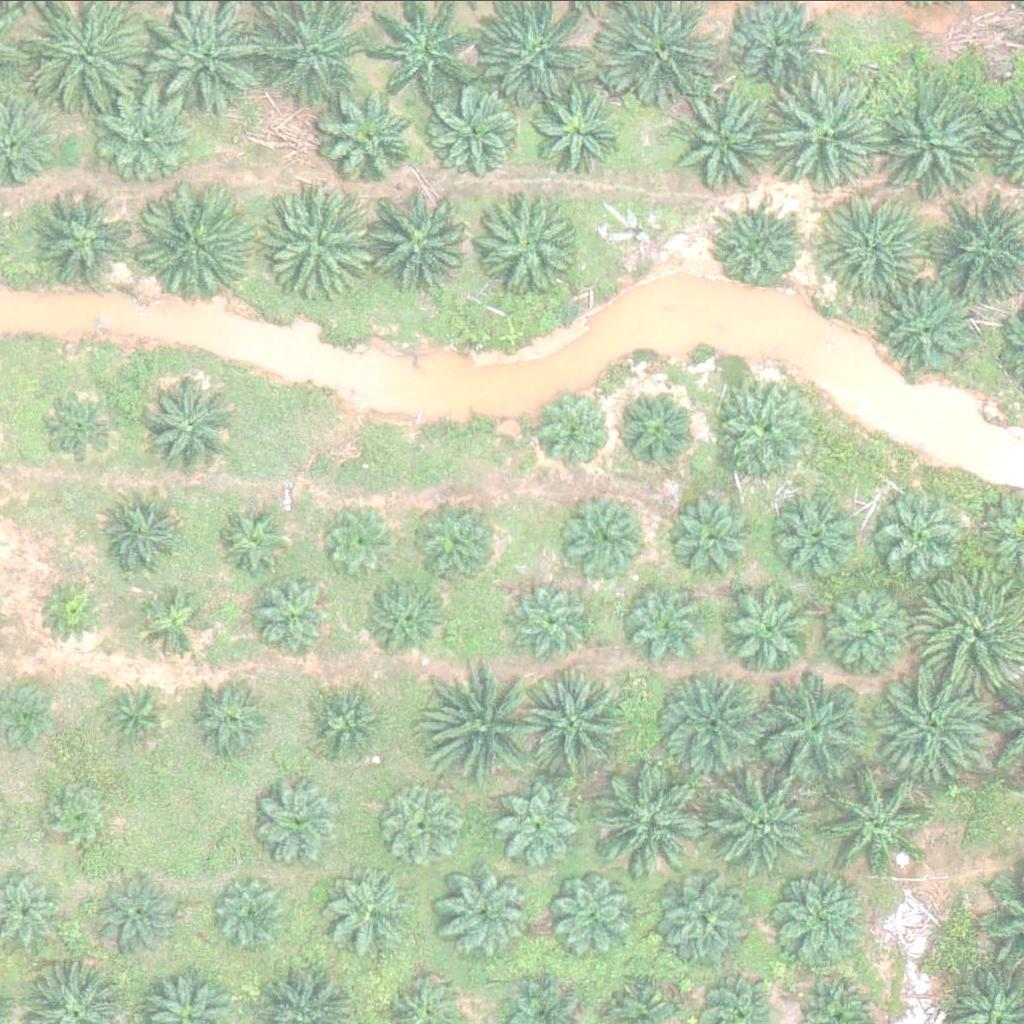Kelapa_Sawit: (881, 88, 995, 201), (817, 190, 931, 303), (135, 184, 249, 297), (654, 673, 768, 786), (259, 188, 372, 301), (431, 666, 544, 779), (752, 669, 865, 782), (368, 182, 482, 294), (879, 663, 993, 775), (658, 78, 771, 190), (772, 74, 885, 186), (524, 669, 637, 781), (818, 762, 931, 874), (709, 762, 822, 874), (597, 766, 710, 878), (425, 84, 526, 184), (521, 80, 622, 180), (477, 191, 578, 291), (141, 376, 242, 476), (710, 378, 811, 478), (771, 486, 872, 586), (664, 869, 765, 969), (32, 189, 133, 289), (878, 278, 979, 378), (318, 87, 418, 187), (817, 576, 917, 676), (721, 572, 821, 672), (770, 870, 870, 970), (95, 84, 195, 184), (247, 571, 336, 659), (35, 379, 124, 467), (191, 673, 279, 761), (307, 685, 395, 773), (414, 501, 502, 589), (624, 578, 712, 666), (450, 869, 538, 957), (551, 869, 639, 957), (383, 779, 471, 867), (96, 870, 184, 958), (100, 485, 188, 573), (711, 203, 799, 290), (362, 573, 450, 660), (510, 580, 598, 667), (567, 491, 655, 578), (613, 384, 701, 471), (883, 490, 971, 577), (662, 495, 750, 582), (254, 778, 342, 865), (496, 781, 584, 868), (327, 867, 415, 954), (217, 875, 293, 950), (327, 502, 403, 577), (540, 393, 616, 468), (100, 679, 176, 754), (138, 587, 213, 662), (43, 773, 118, 848), (222, 499, 297, 574), (34, 572, 109, 647)
